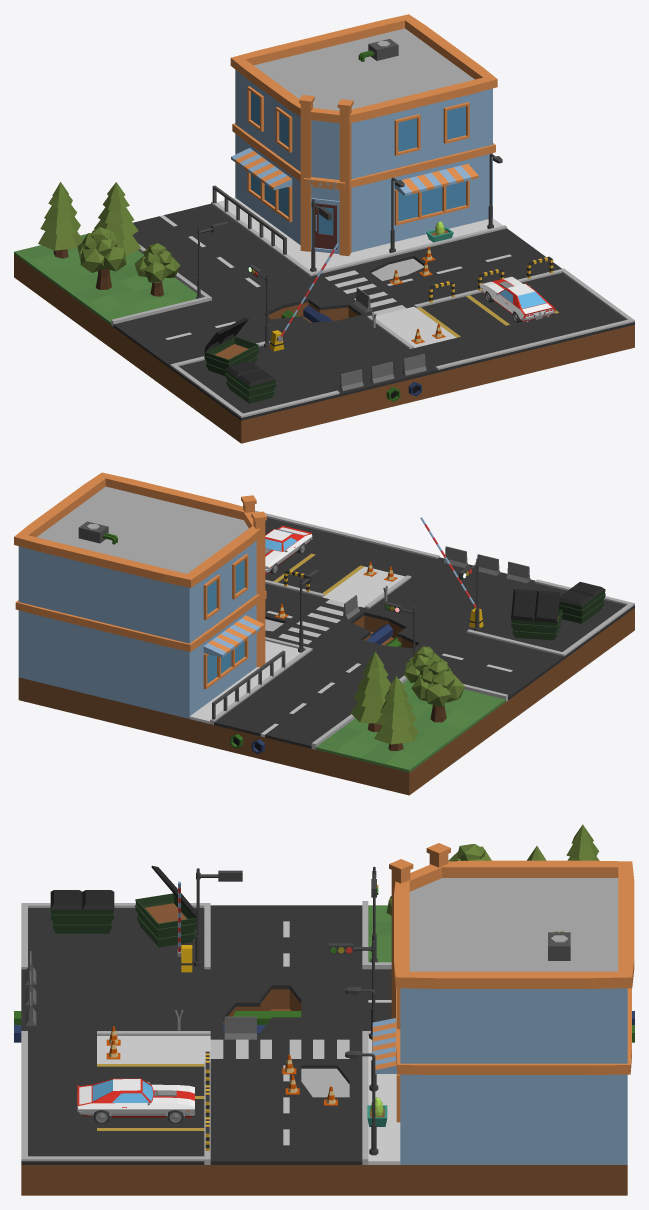
File: city_pair_C4_tweaked.glb
The picture shows the model from 3 angles, top to bottom: view 1: azimuth 30°, elevation 25°; view 2: azimuth 150°, elevation 25°; view 3: azimuth 270°, elevation 25°; orthographic projection. The views are drawn at different scales.
Visible parts, largest first — view 1: Plane_0, Plane.005_22, Plane.007_23, Car_31, Plane.008_2, Plane.006_1, Plane.009_3, Plane.002_12; view 2: Plane_0, Plane.008_2, Plane.005_22, Plane.007_23, Plane.006_1, Plane.009_3, Car_31, Plane.002_12; view 3: Plane_0, Car_31, Plane.009_3, Plane.008_2, Plane.016_8, Cube.002_13, Plane.005_22, Plane.010_17, Plane.015_7, Plane.007_23.
Part boxes in pixels (bbox=[...]): Plane_0: bbox=[14, 14, 634, 443]; Plane.005_22: bbox=[38, 182, 82, 258]; Plane.007_23: bbox=[77, 227, 126, 289]; Car_31: bbox=[479, 276, 555, 321]; Plane.008_2: bbox=[204, 318, 258, 375]; Plane.006_1: bbox=[94, 182, 140, 256]; Plane.009_3: bbox=[225, 361, 276, 403]; Plane.002_12: bbox=[134, 243, 180, 296]; Plane_0: bbox=[14, 472, 634, 795]; Plane.008_2: bbox=[511, 589, 562, 640]; Plane.005_22: bbox=[374, 676, 418, 750]; Plane.007_23: bbox=[411, 661, 464, 722]; Plane.006_1: bbox=[350, 651, 390, 732]; Plane.009_3: bbox=[559, 582, 605, 623]; Car_31: bbox=[265, 525, 312, 574]; Plane.002_12: bbox=[404, 646, 447, 682]; Plane_0: bbox=[14, 843, 634, 1195]; Car_31: bbox=[76, 1078, 194, 1118]; Plane.009_3: bbox=[50, 890, 114, 933]; Plane.008_2: bbox=[135, 865, 196, 947]; Plane.016_8: bbox=[193, 868, 242, 966]; Cube.002_13: bbox=[224, 1016, 256, 1039]; Plane.005_22: bbox=[566, 824, 599, 860]; Plane.010_17: bbox=[345, 1051, 378, 1155]; Plane.015_7: bbox=[329, 941, 376, 1039]; Plane.007_23: bbox=[448, 844, 491, 861].
Bounding box in the file's own units: 23.64 × 10.04 × 23.95.
